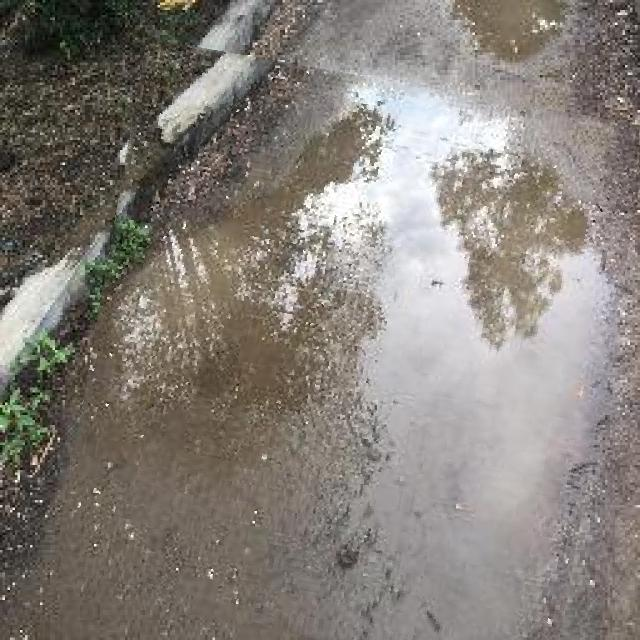puddle: (72, 59, 628, 640)
